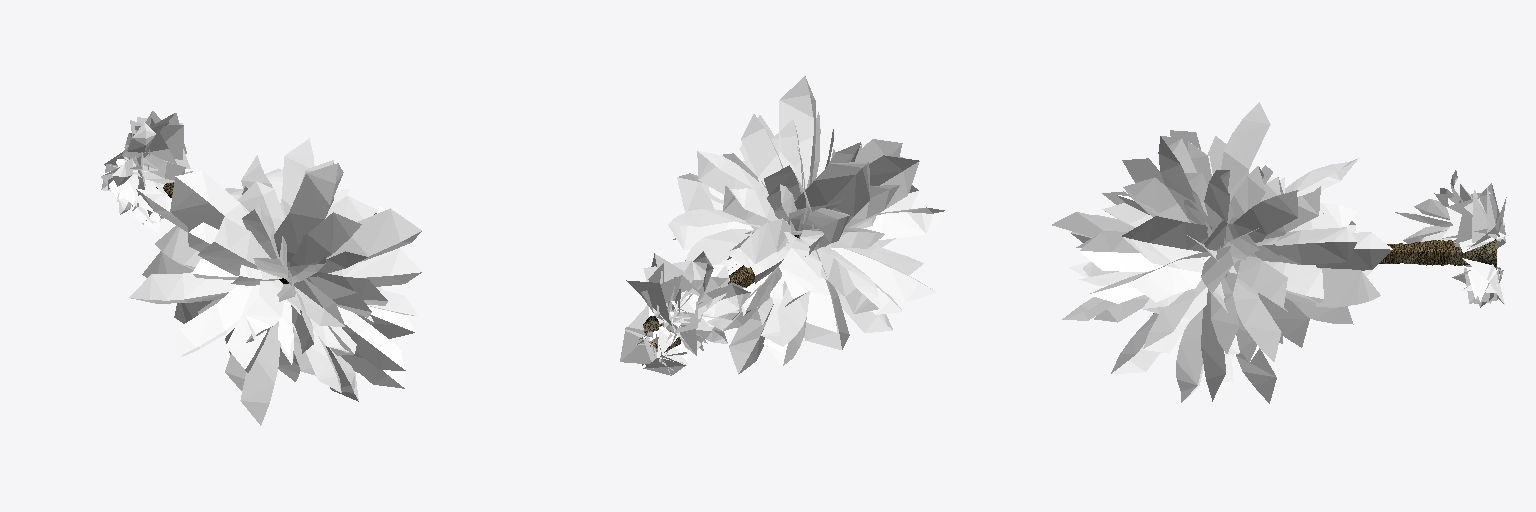
The picture shows the model from 3 angles: view 1: azimuth 30°, elevation 25°; view 2: azimuth 150°, elevation 25°; view 3: azimuth 270°, elevation 25°; orthographic projection.
Visible parts, largest first — view 1: tdr_v_palm_a; view 2: tdr_v_palm_a; view 3: tdr_v_palm_a.
Boxes of the visible parts, box(x1,y1,x2,y2) form: tdr_v_palm_a: box(101, 111, 421, 425); tdr_v_palm_a: box(620, 76, 946, 375); tdr_v_palm_a: box(1052, 102, 1508, 403).
Bounding box in the file's own units: 2806 × 2816 × 4461.
Materials: 5 (1 with a texture image).